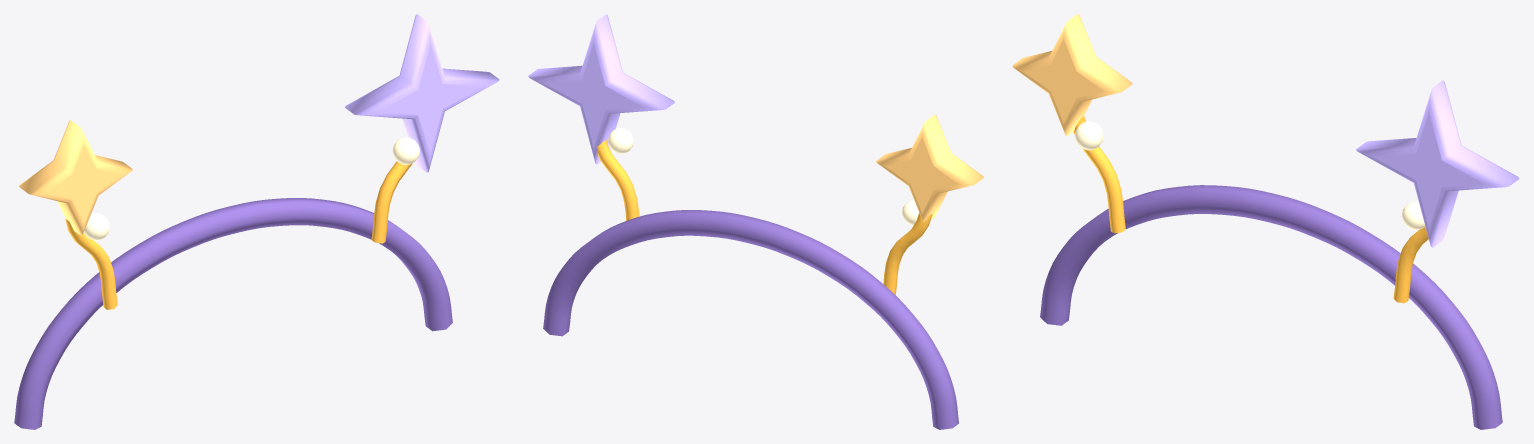
File: comet_band.glb
The picture shows the model from 3 angles, left to right: view 1: azimuth 30°, elevation 25°; view 2: azimuth 150°, elevation 25°; view 3: azimuth 330°, elevation 25°; orthographic projection. The views are drawn at different scales.
Visible parts, largest first — view 1: Comet Antennae; view 2: Comet Antennae; view 3: Comet Antennae.
Boxes of the visible parts, x1=… form: Comet Antennae: x1=14, y1=14, x2=499, y2=429; Comet Antennae: x1=528, y1=14, x2=983, y2=429; Comet Antennae: x1=1012, y1=14, x2=1519, y2=429.
Size of the model in its own units: 1 by 0.6656 by 0.1159.
